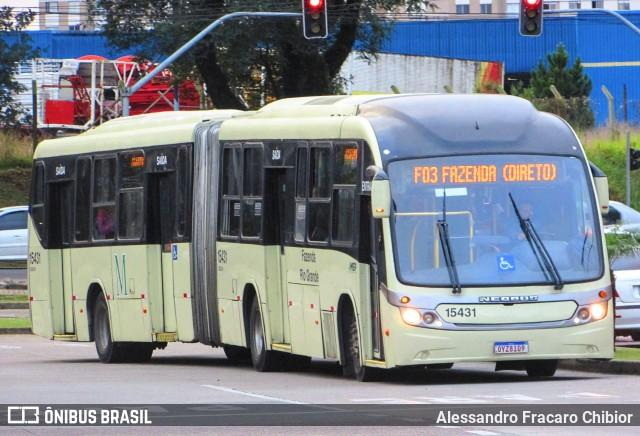FAZENDA: (438, 161, 501, 186)
